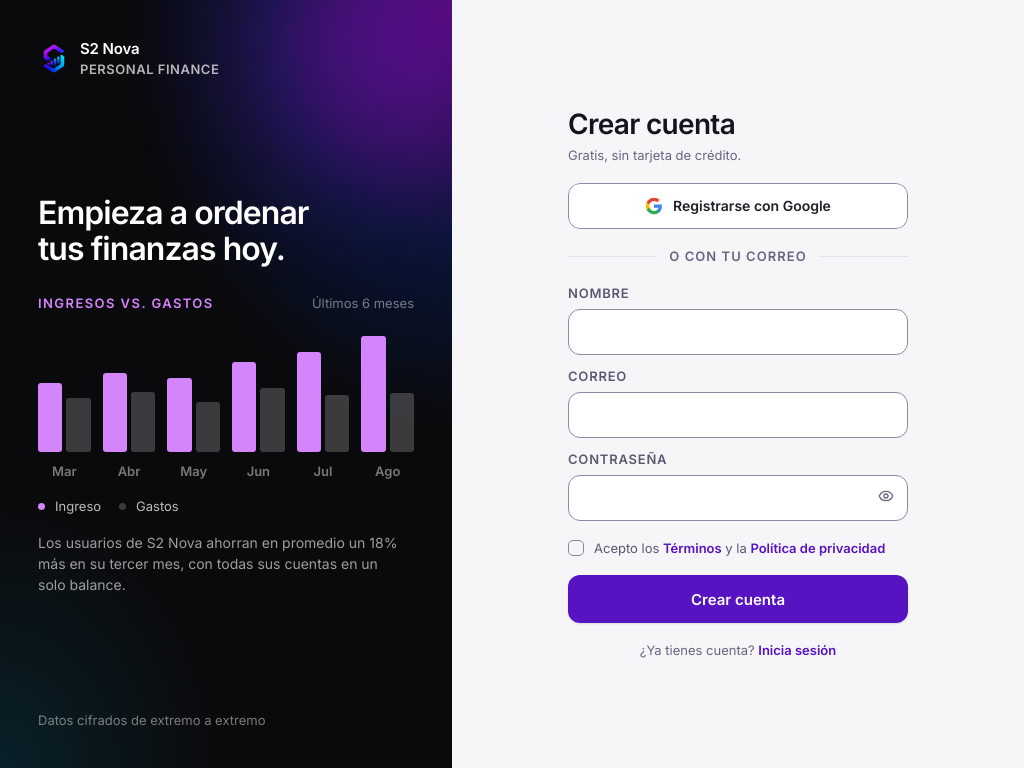
it: RegisterPage validation › rejects a password under 8 characters, without a digit, or without an uppercase letter
Expected: the field labelled "CORREO" is shown, [568, 392, 908, 438]
Type "Ada" into the field labelled "NOMBRE" at (738, 332), box [568, 309, 908, 355]
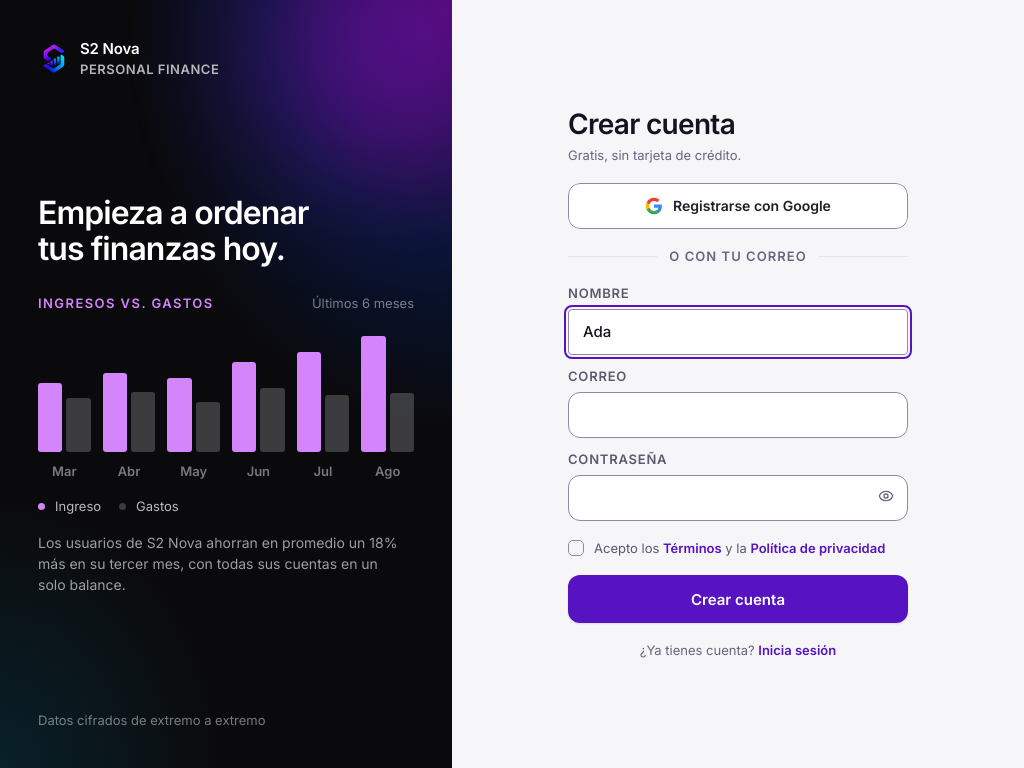
Type "ada@example.com" into the field labelled "CORREO" at (738, 415), box [568, 392, 908, 438]
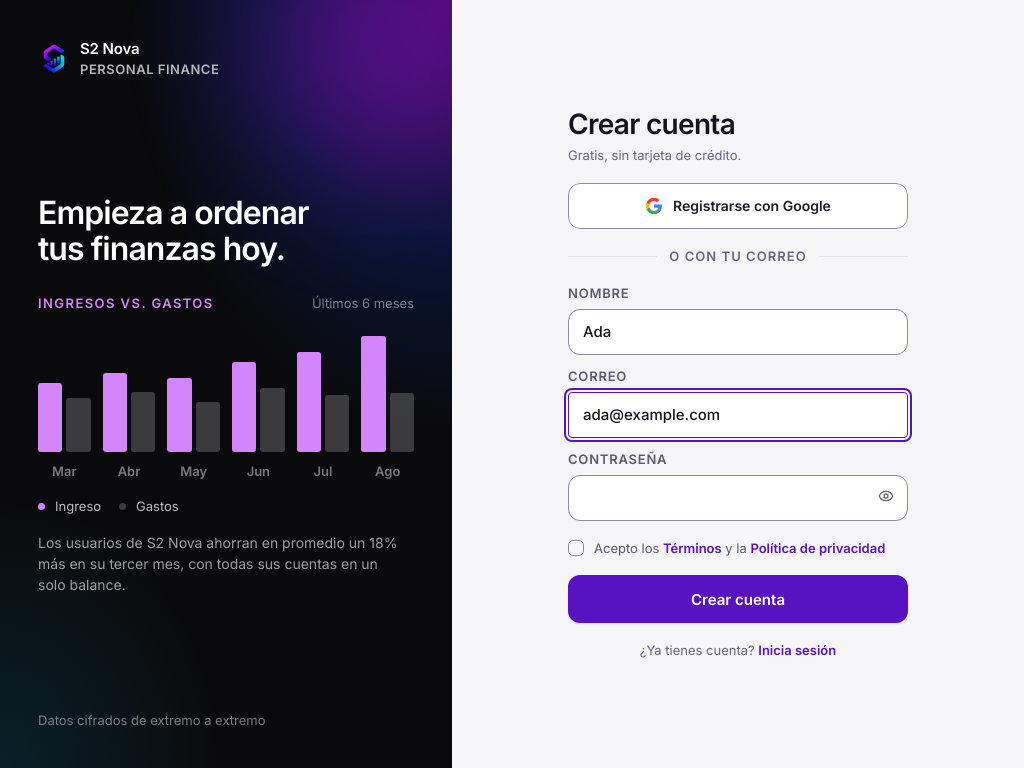
Type "short1a" into the password field labelled "CONTRASEÑA" at (738, 498), box [568, 475, 908, 521]
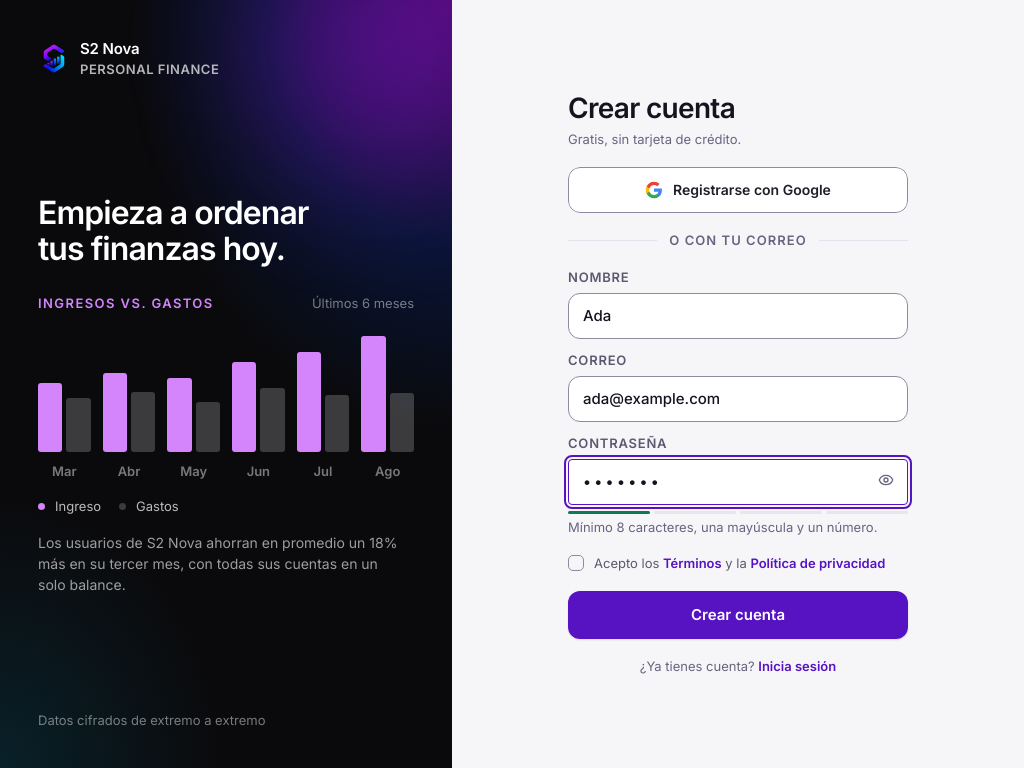
Click the checkbox at (738, 564), box [568, 554, 908, 573]
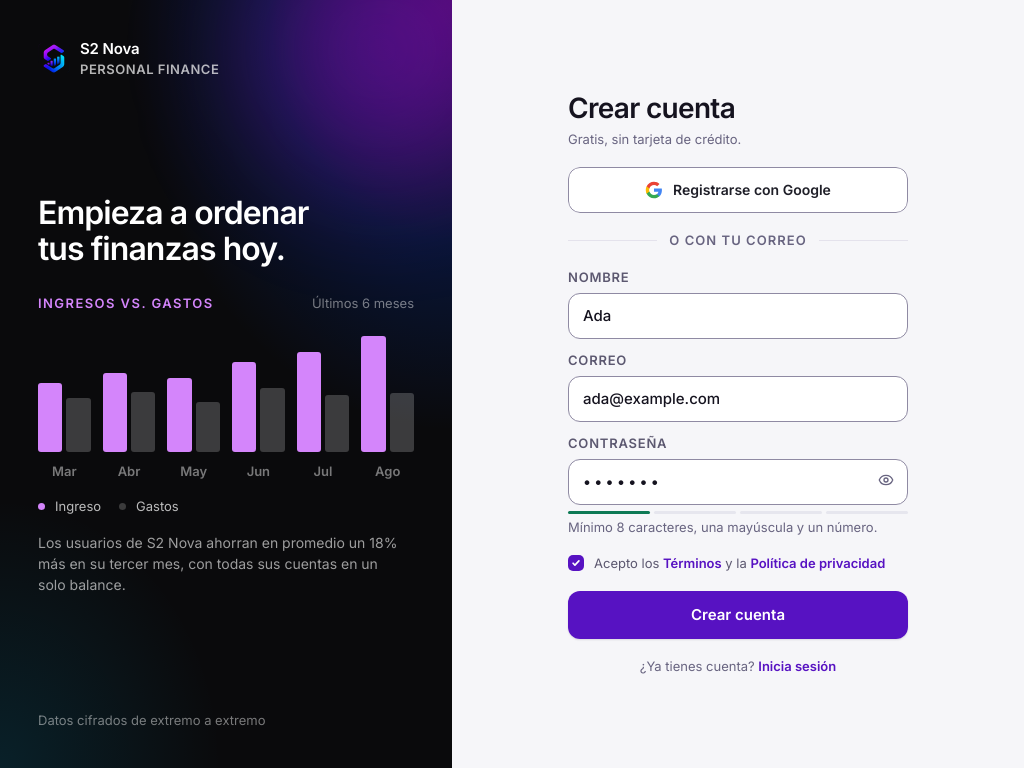
Click the button "Crear cuenta" at (738, 615), box [568, 591, 908, 639]
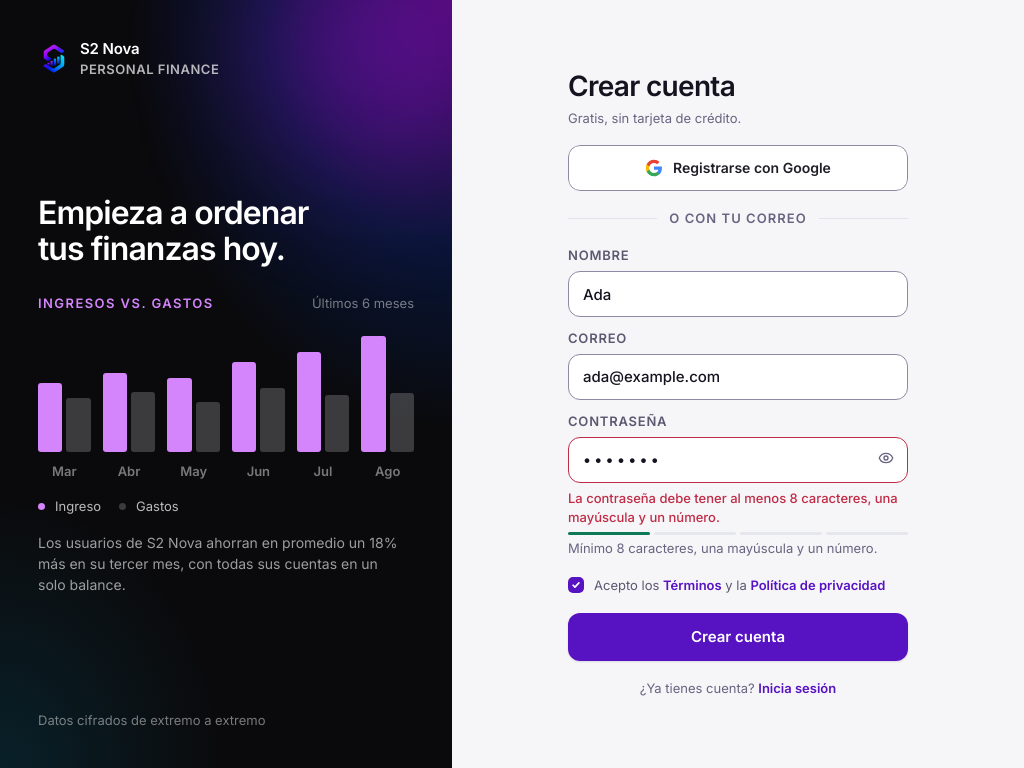
Result: the text "La contraseña debe tener al menos 8 caracteres, una mayúscula y un número." is shown at [568, 489, 908, 526]
